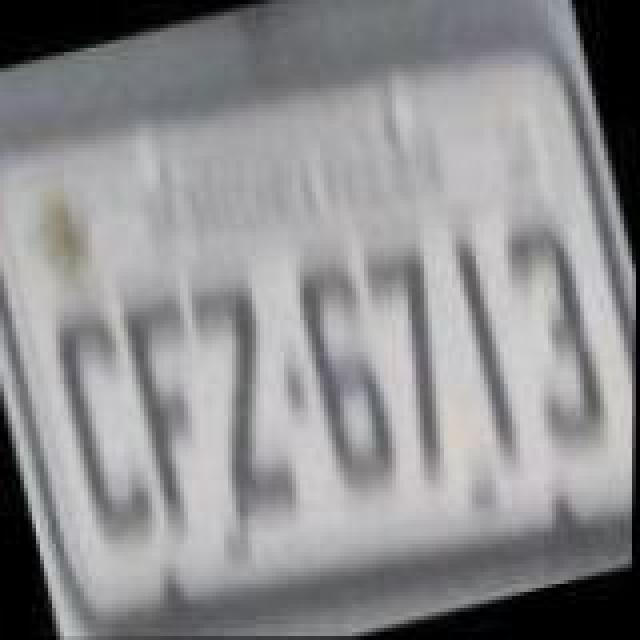1: (438, 226, 530, 470)
3: (490, 210, 622, 470)
6: (288, 256, 412, 508)
7: (358, 238, 482, 490)
C: (46, 298, 174, 558)
F: (116, 288, 240, 544)
Z: (182, 274, 310, 534)
